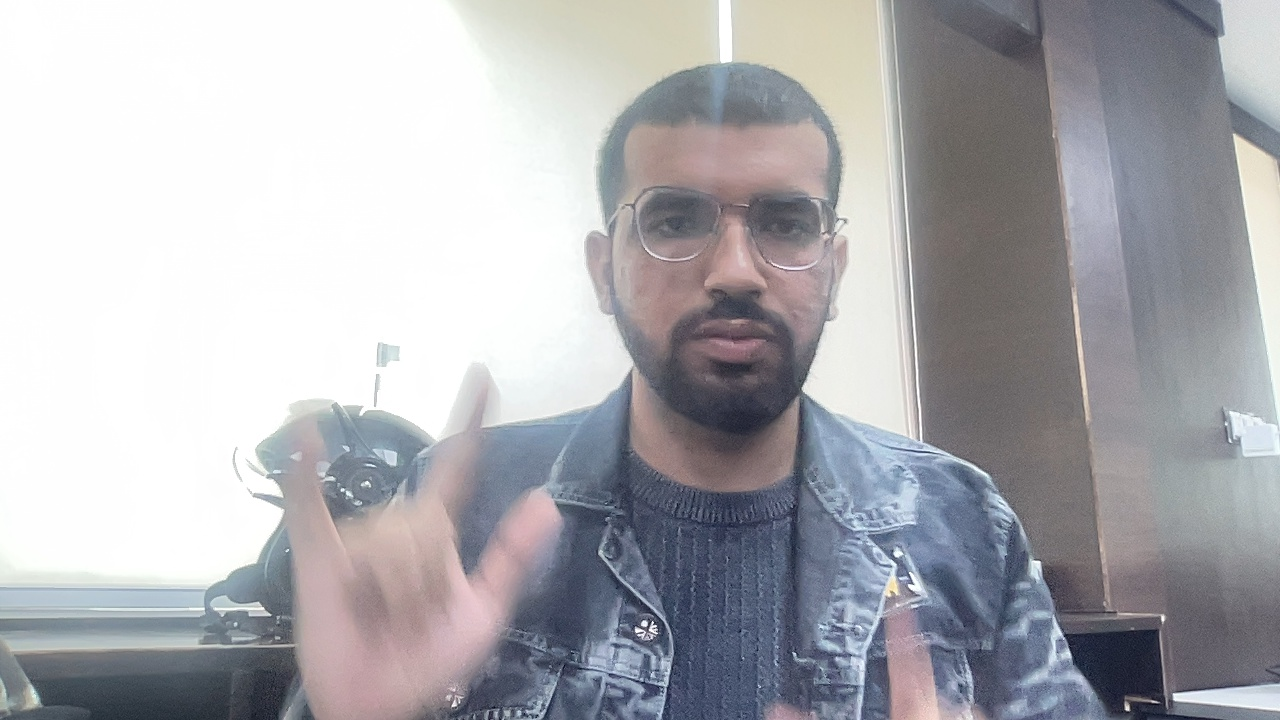I Love You: (208, 374, 588, 720)
